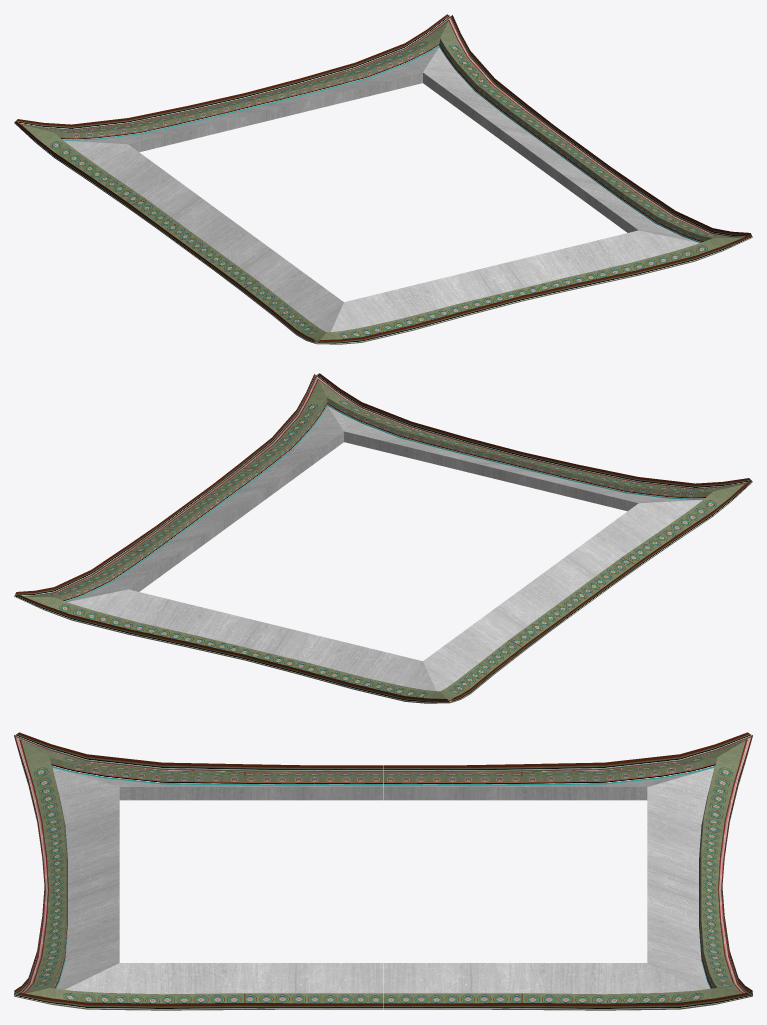
Rendered from SM_Roofplate02C.fbx.
3 renders of one model, top to bottom at view 1: azimuth 30°, elevation 25°; view 2: azimuth 150°, elevation 25°; view 3: azimuth 270°, elevation 25°, orthographic. The views are drawn at different scales.
Parts seen in each view (by area): view 1: SM_Roofplate02C; view 2: SM_Roofplate02C; view 3: SM_Roofplate02C.
Boxes of the visible parts, left/top/right/bottom form: SM_Roofplate02C: left=14, top=14, right=752, bottom=344; SM_Roofplate02C: left=14, top=373, right=752, bottom=703; SM_Roofplate02C: left=14, top=732, right=752, bottom=1010.
Size of the model in its own units: 1668 by 1999 by 90.92.
